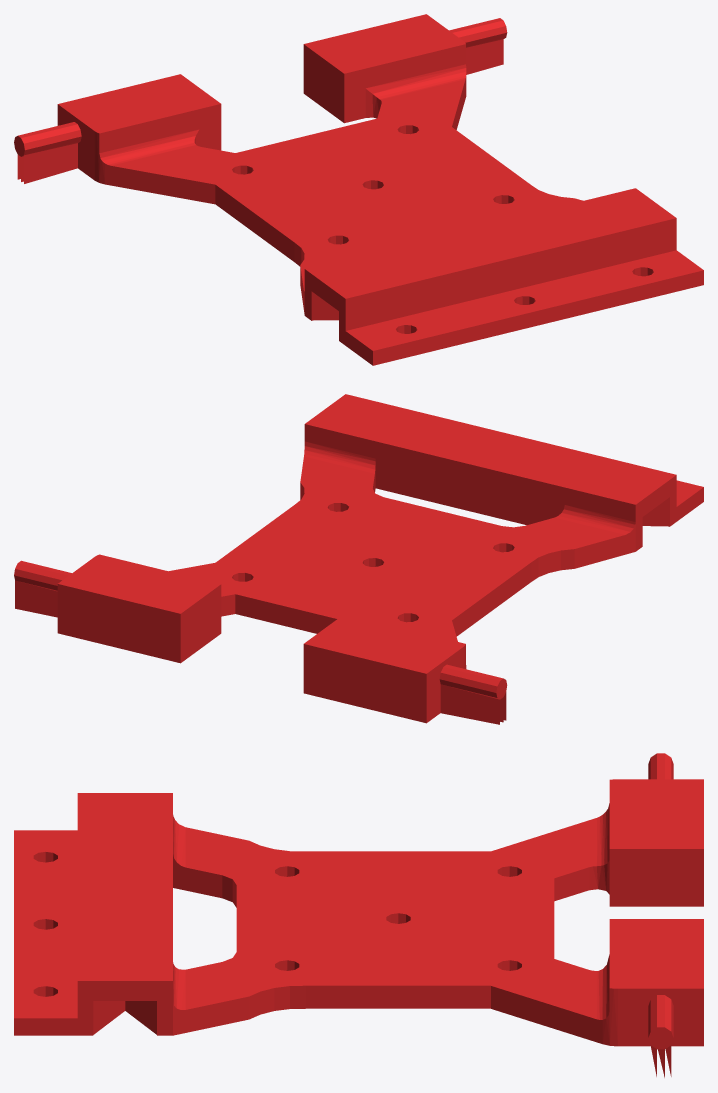
Rendered from Nizina_poderzh.fbx.
3 renders of one model, top to bottom at view 1: azimuth 30°, elevation 25°; view 2: azimuth 150°, elevation 25°; view 3: azimuth 270°, elevation 25°, orthographic. The views are drawn at different scales.
Visible parts, largest first — view 1: нижняя часть; view 2: нижняя часть; view 3: нижняя часть.
Boxes of the visible parts, bbox=[...] form: нижняя часть: bbox=[14, 14, 703, 365]; нижняя часть: bbox=[14, 394, 703, 724]; нижняя часть: bbox=[14, 753, 703, 1077].
Bounding box in the file's own units: 10200 × 1105 × 10852.
